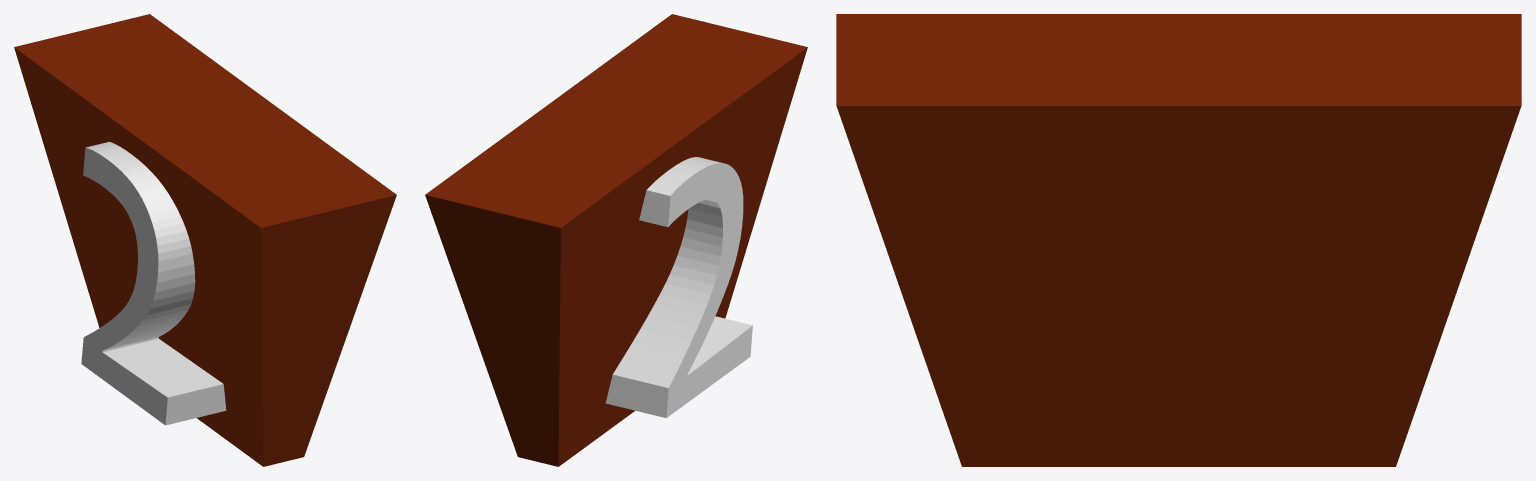
Rendered from Tag2.FBX.
3 views of the same model, side by side, from view 1: azimuth 30°, elevation 25°; view 2: azimuth 150°, elevation 25°; view 3: azimuth 270°, elevation 25° (orthographic). The views are drawn at different scales.
Visible parts, largest first — view 1: Box002, Text002; view 2: Box002, Text002; view 3: Box002.
Boxes of the visible parts, <box> form: Box002: <box>14,14,396,466</box>; Text002: <box>81,141,226,425</box>; Box002: <box>425,14,807,466</box>; Text002: <box>605,157,752,418</box>; Box002: <box>836,14,1521,466</box>.
Size of the model in its own units: 57.16 by 100 by 158.
